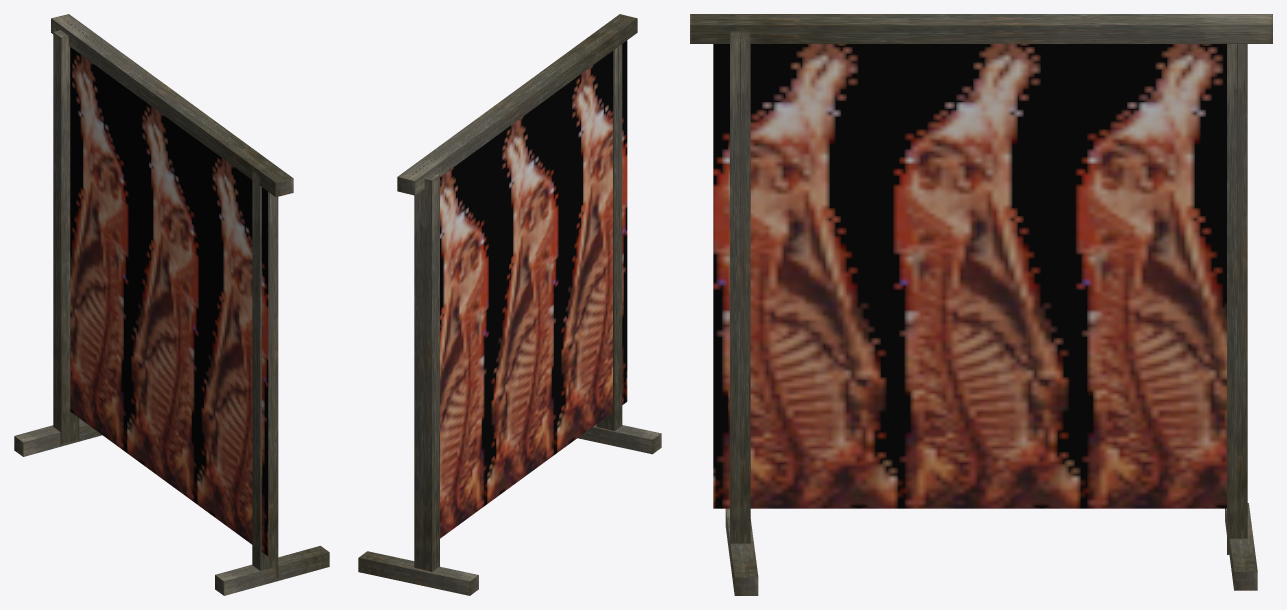
File: meat2.glb
The picture shows the model from 3 angles, left to right: view 1: azimuth 30°, elevation 25°; view 2: azimuth 150°, elevation 25°; view 3: azimuth 270°, elevation 25°; orthographic projection. The views are drawn at different scales.
Visible parts, largest first — view 1: carcass, frame; view 2: carcass, frame; view 3: carcass, frame.
Boxes of the visible parts, left/top/right/bottom form: carcass: left=70, top=47, right=268, bottom=555; frame: left=14, top=14, right=329, bottom=595; carcass: left=440, top=40, right=627, bottom=538; frame: left=358, top=14, right=661, bottom=595; carcass: left=713, top=44, right=1226, bottom=508; frame: left=690, top=14, right=1272, bottom=595.
Bounding box in the file's own units: 5.88 × 19.82 × 19.5.
Materials: 2 (2 with a texture image).
